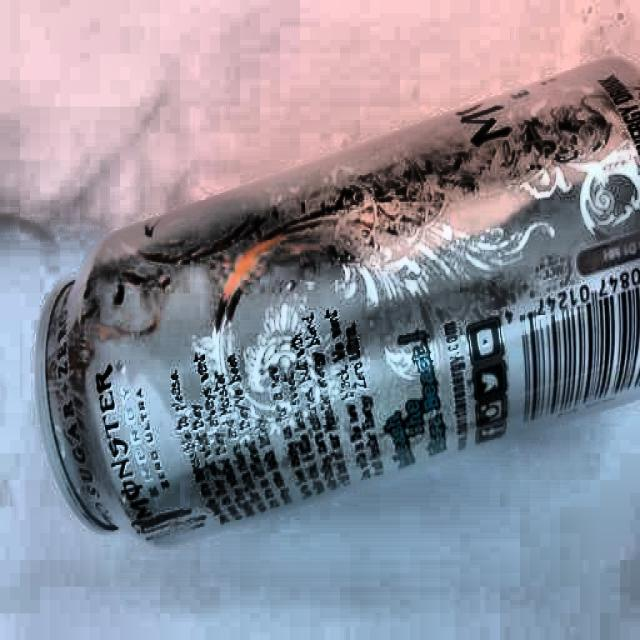metal: (35, 56, 640, 550)
